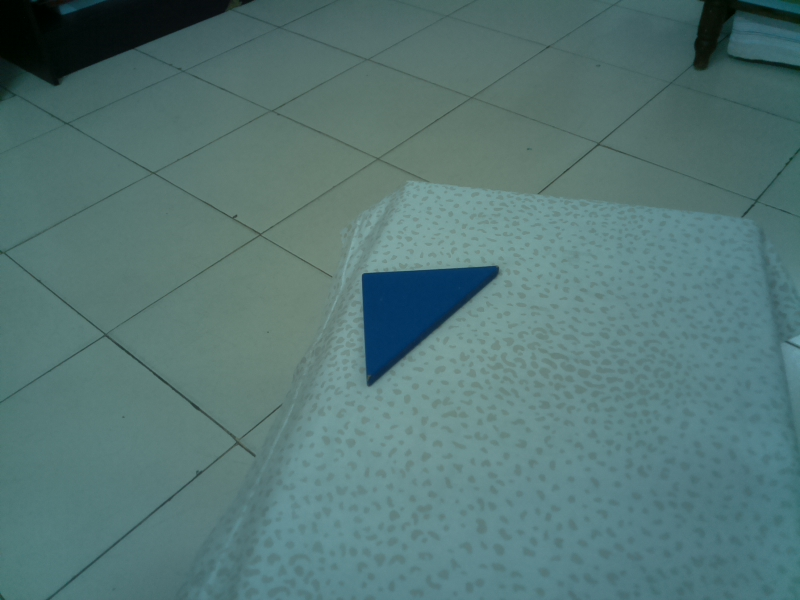Triangle: (355, 264, 507, 390)
